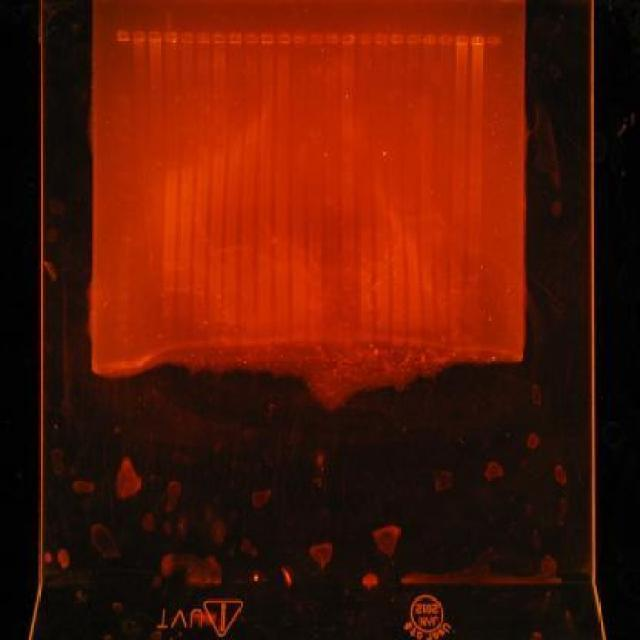L: (112, 26, 506, 48)
M: (114, 50, 132, 347)
P: (116, 290, 130, 302), (116, 312, 130, 322), (117, 117, 131, 126), (118, 235, 132, 243), (117, 170, 131, 178), (117, 137, 131, 145), (116, 324, 130, 332), (116, 337, 130, 345), (118, 194, 131, 200), (117, 112, 131, 116), (117, 108, 131, 112)
Pc: (259, 32, 275, 46), (470, 34, 486, 48), (438, 32, 454, 46), (147, 30, 162, 44), (454, 33, 469, 47), (212, 32, 228, 45), (324, 32, 340, 45), (116, 29, 130, 43), (358, 32, 372, 46), (423, 32, 437, 46), (341, 32, 356, 45), (374, 32, 389, 45), (486, 34, 502, 46), (164, 31, 178, 44), (180, 32, 194, 45), (196, 31, 210, 44), (228, 32, 242, 45), (406, 32, 420, 45), (132, 30, 146, 42), (275, 34, 291, 44), (244, 33, 258, 44), (390, 33, 404, 44), (308, 34, 322, 44), (293, 36, 307, 44)
